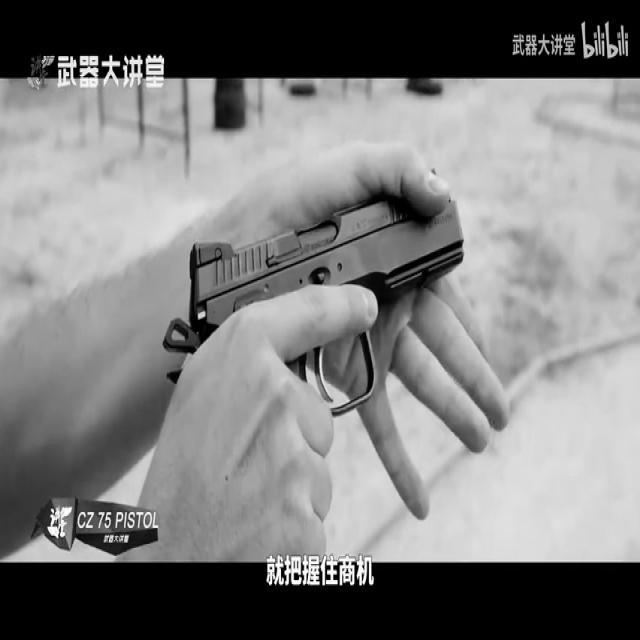Hand-Gun: (160, 163, 478, 433)
